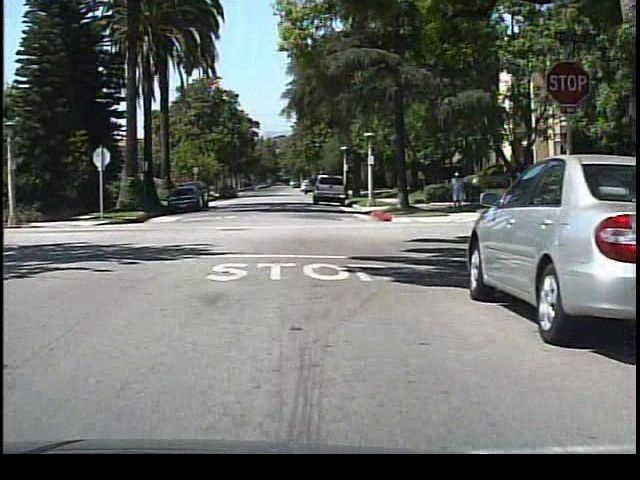person: (444, 168, 469, 214)
